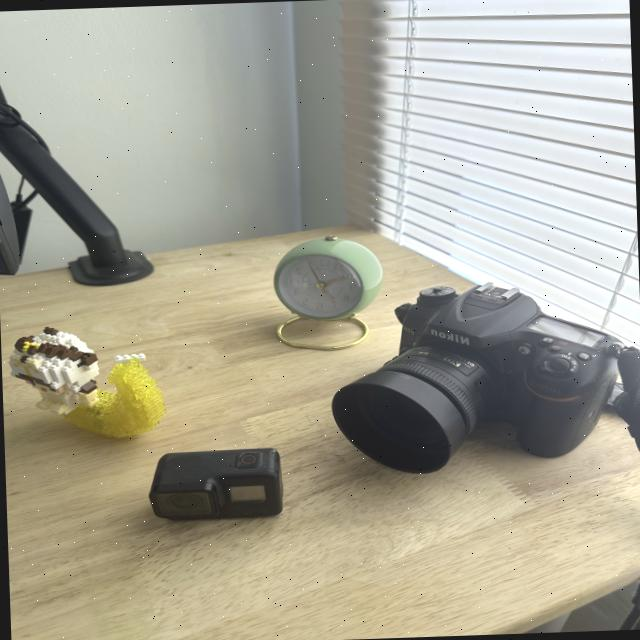actioncam: (140, 440, 292, 526)
camera: (322, 269, 640, 497)
clock: (248, 217, 408, 368)
toy: (1, 304, 174, 452)
